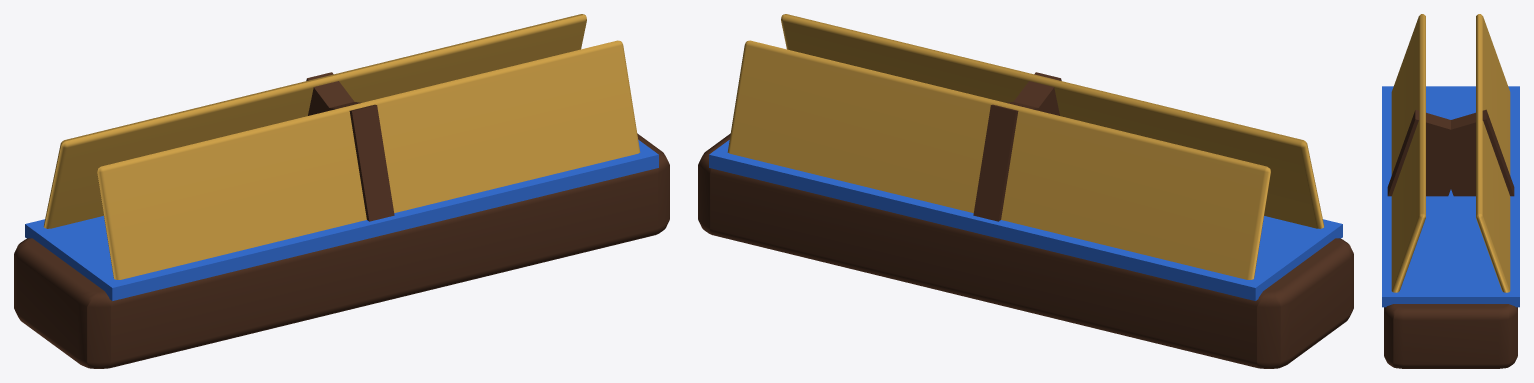
The model's file is RmNameplate.fbx.
3 views of the same model, side by side, from view 1: azimuth 30°, elevation 25°; view 2: azimuth 150°, elevation 25°; view 3: azimuth 270°, elevation 25° (orthographic). The views are drawn at different scales.
Parts seen in each view (by area): view 1: RmNameplateBody, Stripe; view 2: RmNameplateBody, Stripe; view 3: RmNameplateBody, Stripe.
Part boxes in pixels (bbox=[...]): RmNameplateBody: bbox=[14, 14, 669, 368]; Stripe: bbox=[25, 140, 658, 300]; RmNameplateBody: bbox=[698, 14, 1353, 368]; Stripe: bbox=[709, 140, 1342, 300]; RmNameplateBody: bbox=[1384, 14, 1517, 368]; Stripe: bbox=[1382, 86, 1519, 307].
Bounding box in the file's own units: 0.28 × 0.0838 × 0.072.
